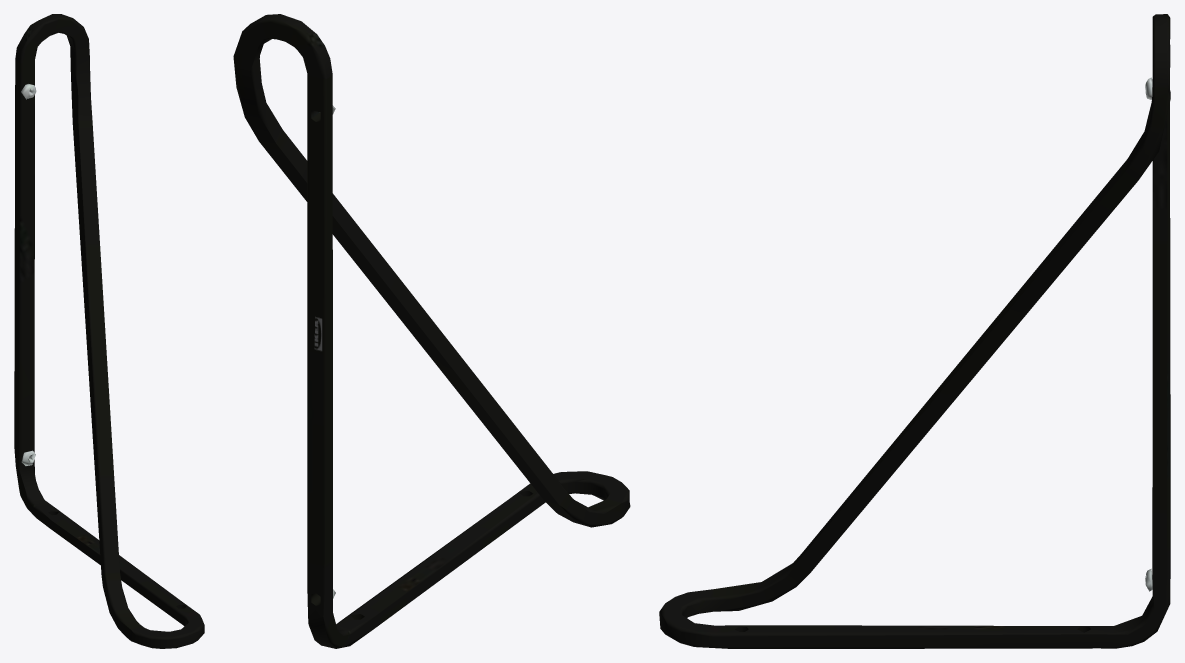
The model's file is 34 - FÖRLÄGGARE Bracket - black 18x25 cm.glb.
3 views of the same model, side by side, from view 1: azimuth 30°, elevation 25°; view 2: azimuth 150°, elevation 25°; view 3: azimuth 270°, elevation 25° (orthographic). The views are drawn at different scales.
Parts seen in each view (by area): view 1: ASY_ART_10583714_S01_NV01; view 2: ASY_ART_10583714_S01_NV01; view 3: ASY_ART_10583714_S01_NV01.
Boxes of the visible parts, box(x1,y1,x2,y2) form: ASY_ART_10583714_S01_NV01: box(14, 14, 204, 648); ASY_ART_10583714_S01_NV01: box(233, 14, 630, 648); ASY_ART_10583714_S01_NV01: box(659, 14, 1170, 648).
Bounding box in the file's own units: 0.0683 × 0.2494 × 0.1794.
Materials: 2 (2 with a texture image).
